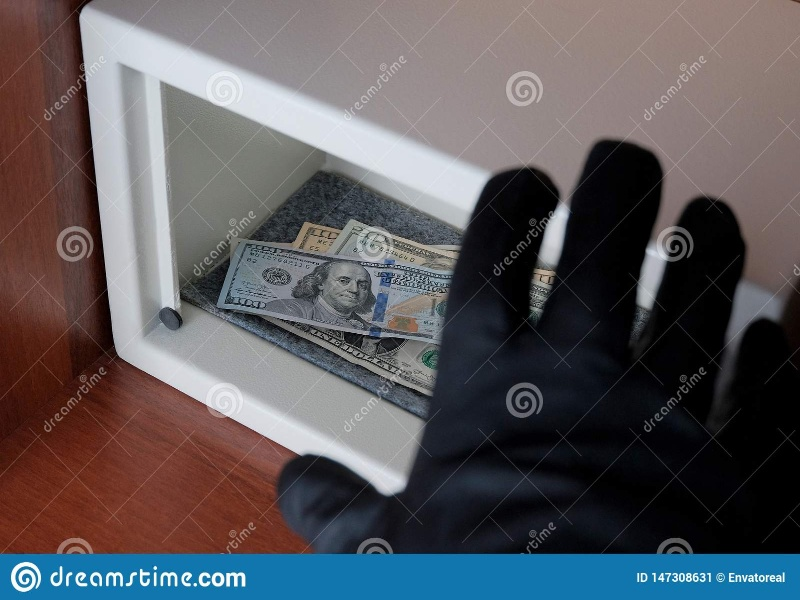cash: (214, 218, 559, 397)
